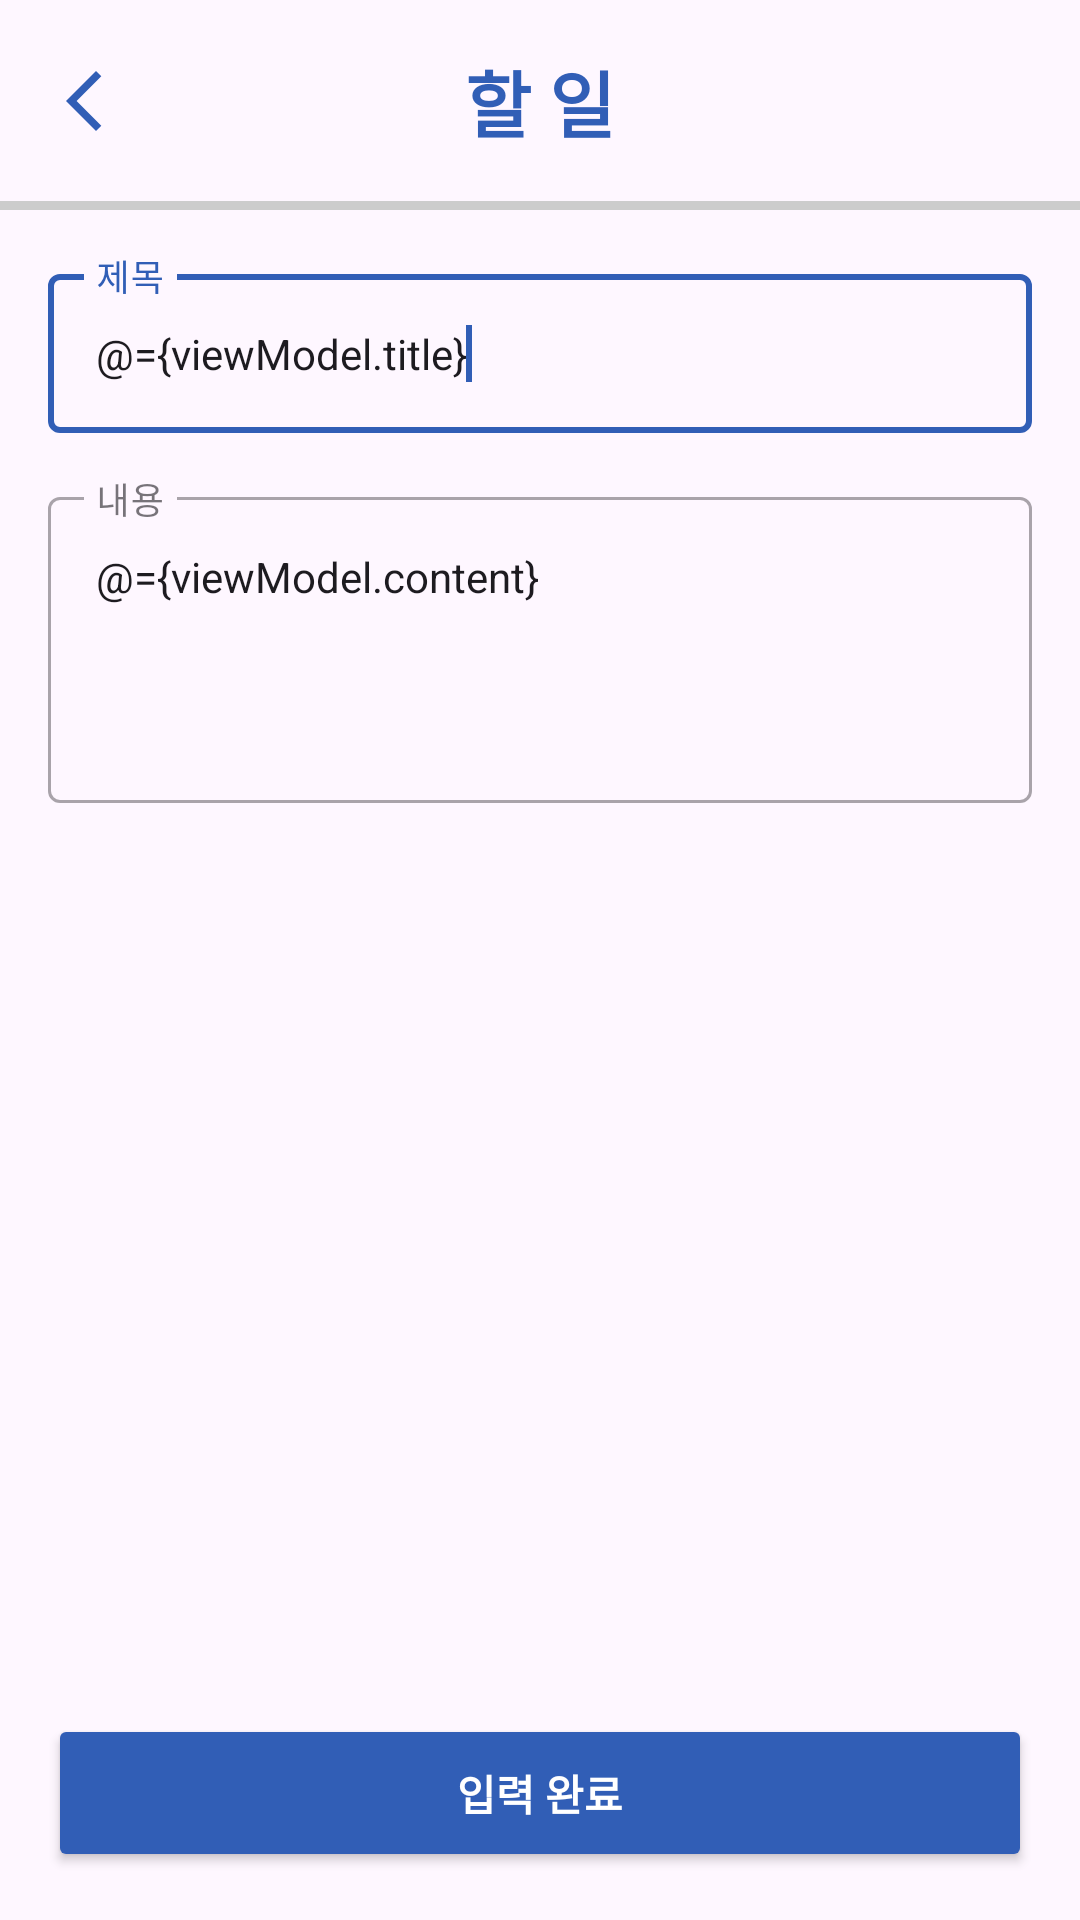

Icons on this 1080px×1920px Android screen, each with its box as (x1, y1, x2, y2):
arrow back: (66, 71, 101, 131)
